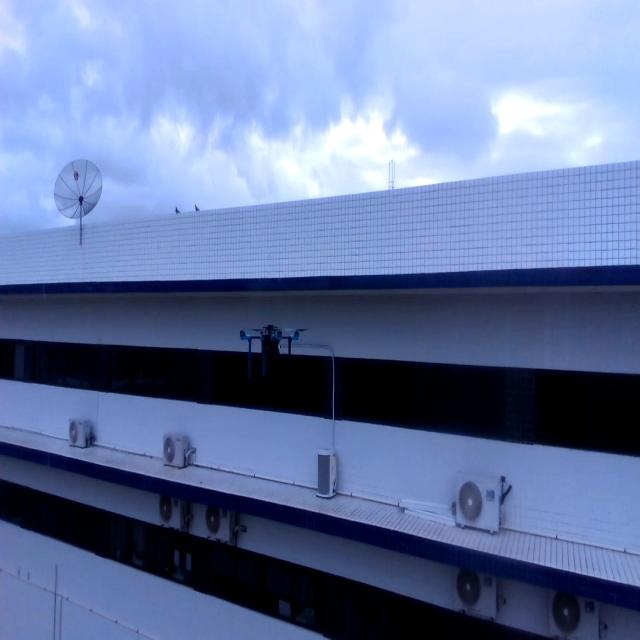-uav-: (233, 310, 312, 392)
